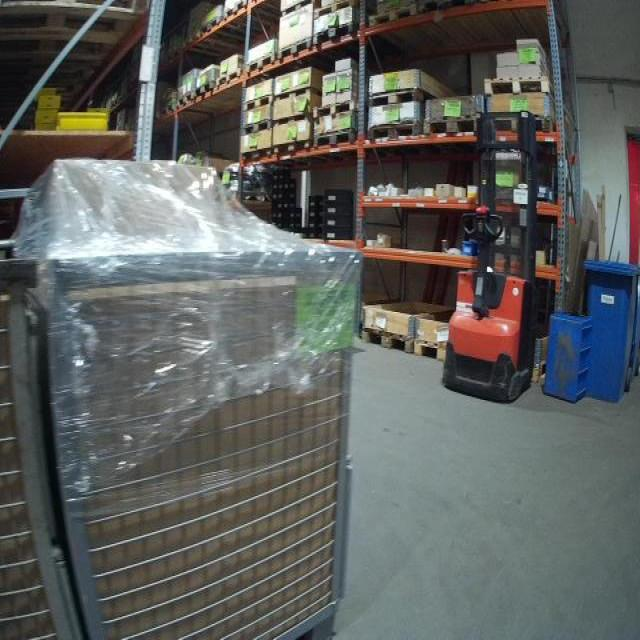pallet: (2, 6, 149, 115), (485, 73, 564, 97), (360, 323, 415, 357), (419, 113, 484, 141), (312, 125, 364, 154), (490, 113, 554, 136), (367, 85, 448, 103), (369, 7, 421, 35), (366, 118, 420, 143), (310, 21, 355, 51), (314, 96, 363, 123), (270, 133, 312, 163), (271, 83, 328, 104), (278, 32, 314, 64), (417, 337, 451, 362), (272, 111, 314, 131), (244, 53, 275, 78), (241, 91, 275, 113), (238, 145, 268, 168), (243, 114, 275, 135), (213, 69, 241, 90), (315, 3, 355, 17), (224, 1, 250, 18), (196, 81, 213, 104), (177, 92, 194, 114)
pallet_truck: (440, 104, 548, 411)
small_load_carrier: (460, 237, 482, 262), (320, 227, 352, 243), (323, 203, 354, 217), (326, 187, 350, 205), (321, 217, 354, 229)
stillage: (2, 232, 369, 640)
